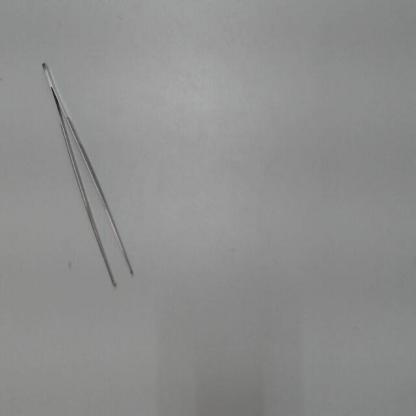Gillies Toothed Dissector: (36, 48, 145, 300)
